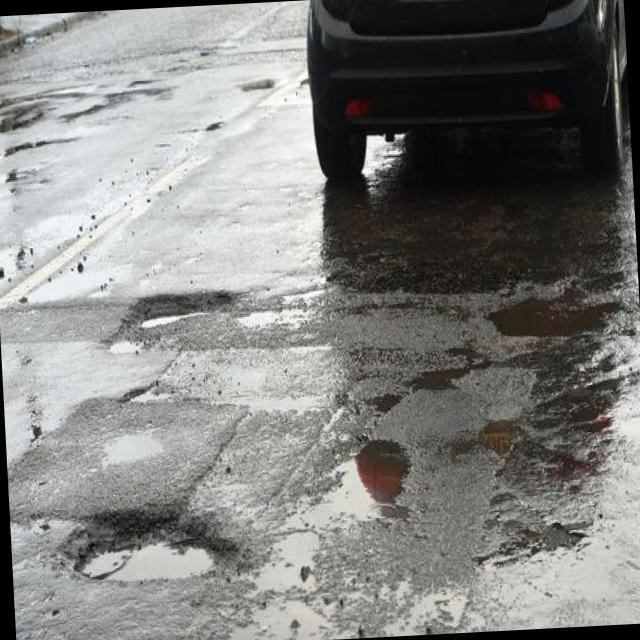Pothole: (72, 504, 214, 583), (103, 415, 166, 469), (131, 296, 195, 332)
